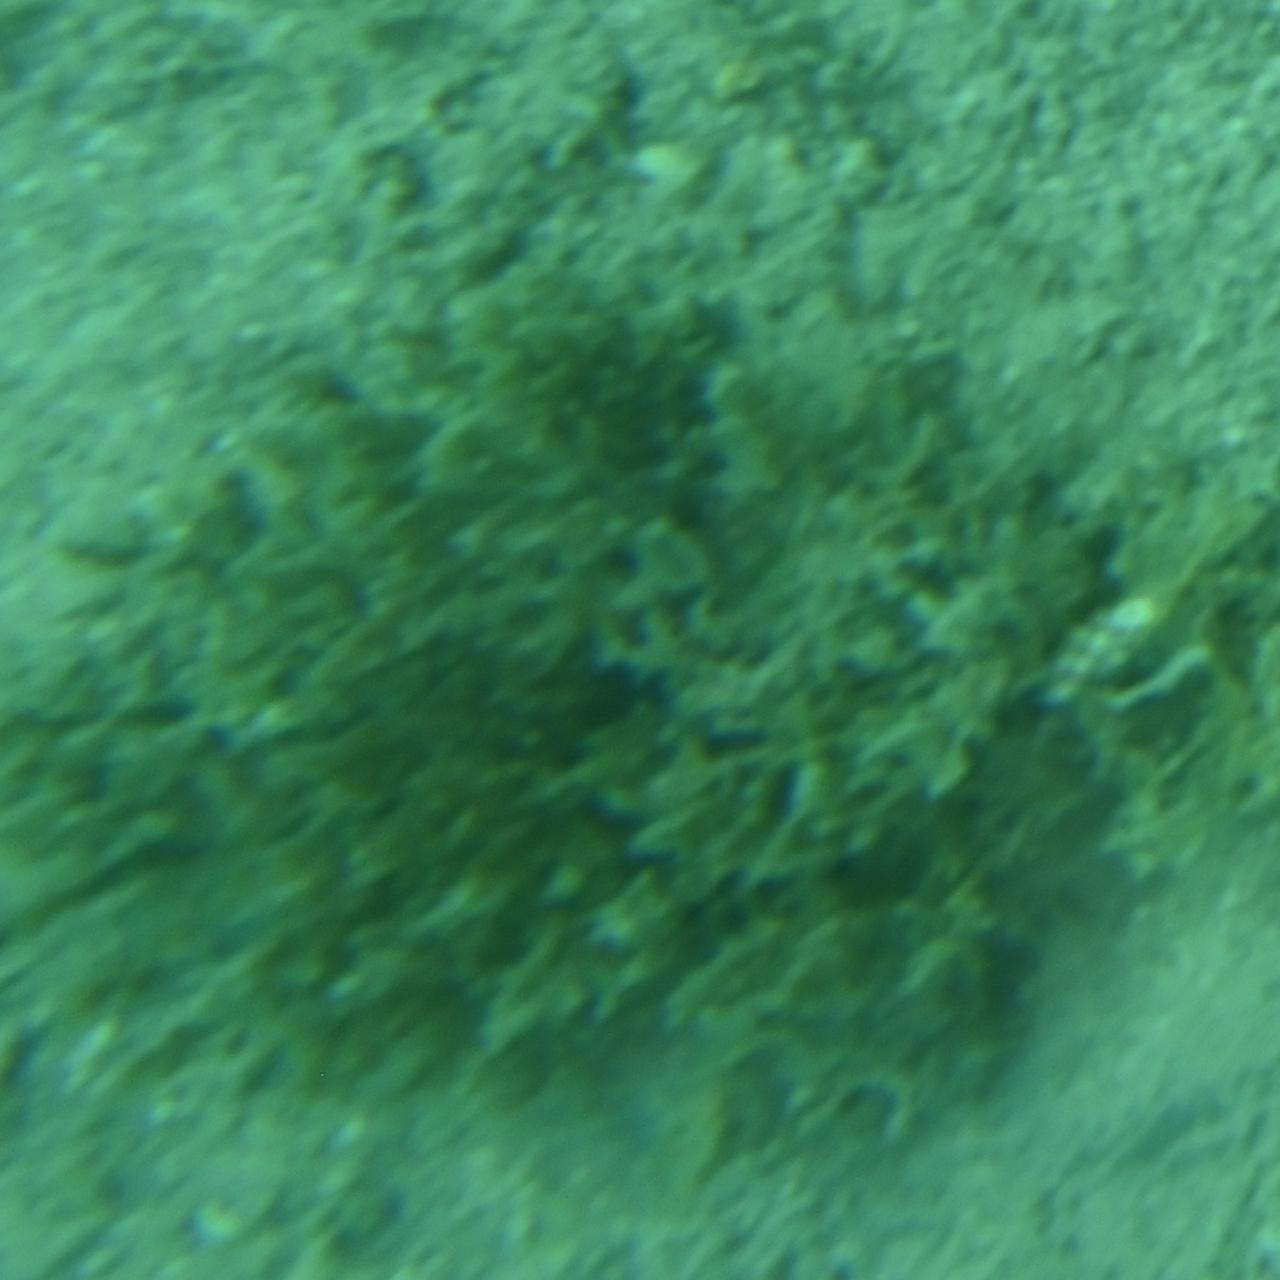Phaeophyceae -cfr Cystoseira-: (0, 255, 1280, 1160)
